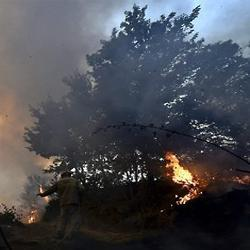fire: (169, 164, 193, 186), (182, 193, 191, 201)
